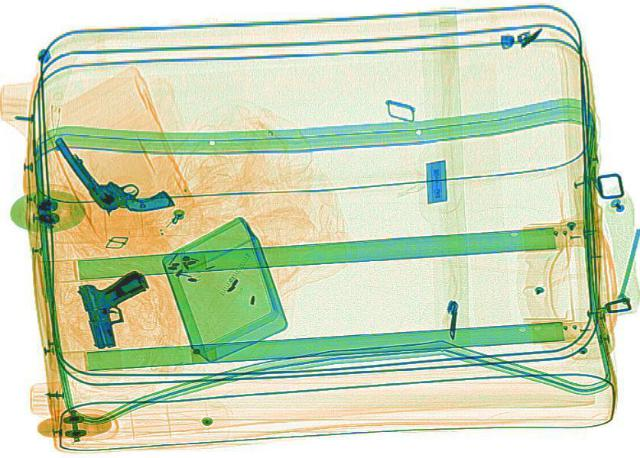Gun: (48, 118, 174, 221), (66, 267, 172, 348)
